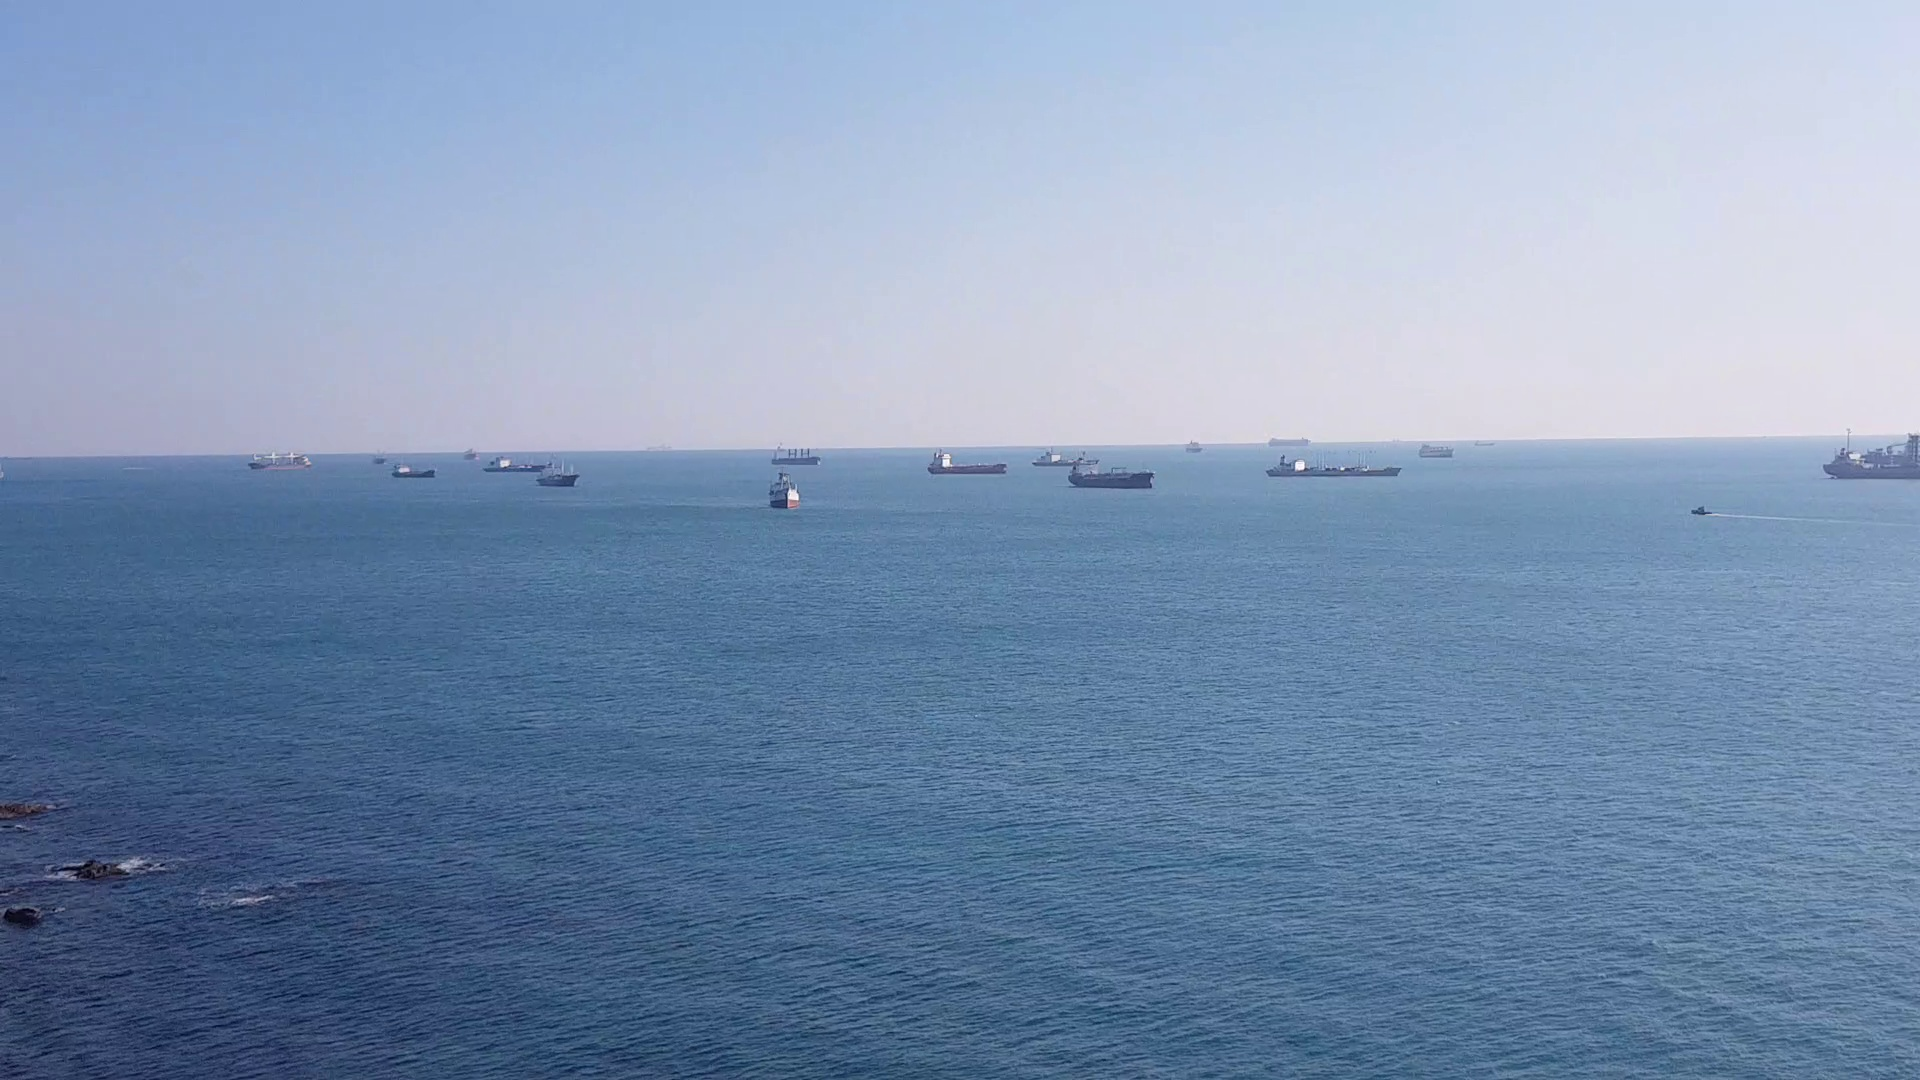Bulk_Carrier: (477, 464, 583, 483), (1052, 469, 1156, 488), (243, 452, 309, 469)
